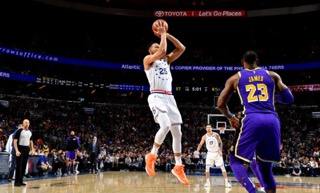Jumpshot: (148, 18, 185, 57)
